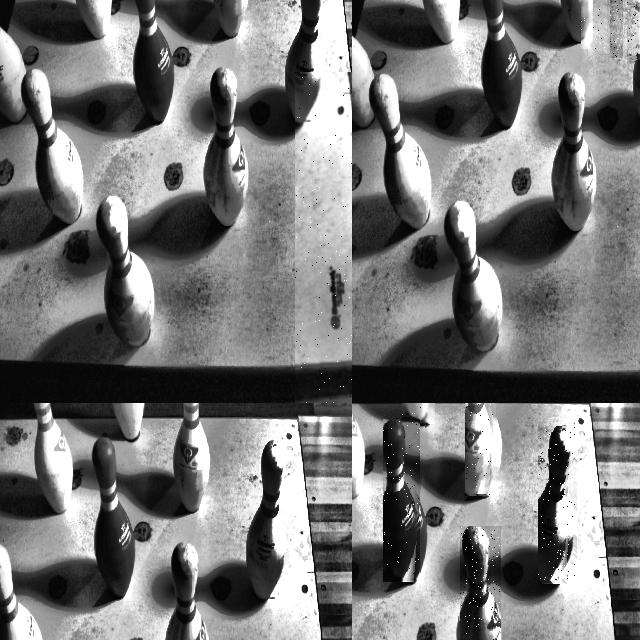bowling-ball: (549, 215, 586, 274)
bowling-pins: (296, 72, 352, 403), (383, 420, 420, 579), (539, 427, 575, 581), (460, 526, 500, 640), (466, 403, 494, 495), (426, 0, 440, 60), (462, 0, 475, 60), (610, 0, 623, 57), (413, 0, 426, 56), (483, 0, 496, 55), (627, 0, 638, 59), (581, 0, 594, 48), (504, 0, 516, 51), (595, 0, 605, 53), (621, 0, 630, 32)
